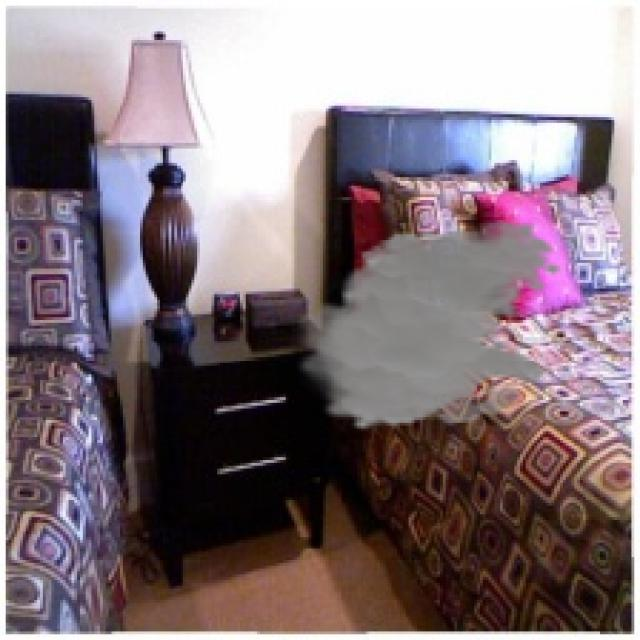smoke: (286, 220, 563, 431)
